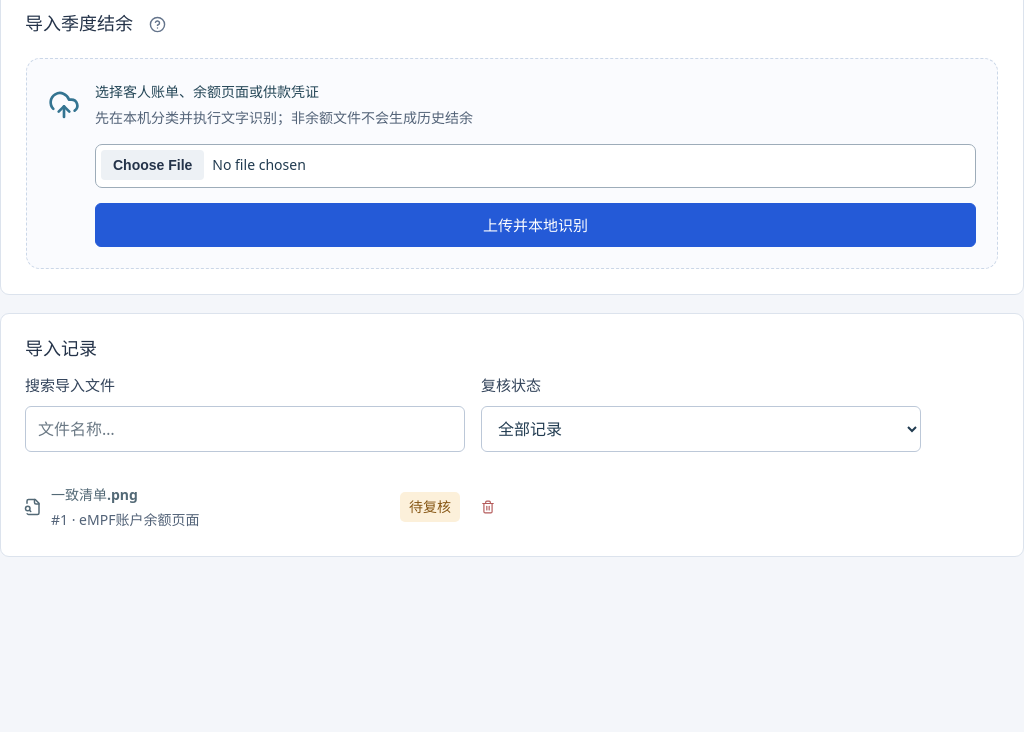
Test: 识别完全一致时无对比清单，人工复核字段保留且不会自动采用或提交
This screenshot has width=1024, height=732.
Click the button "一致清单.png #1 · eMPF账户余额页面 待复核": (94,495) [14,473,465,541]
(page scrolled)
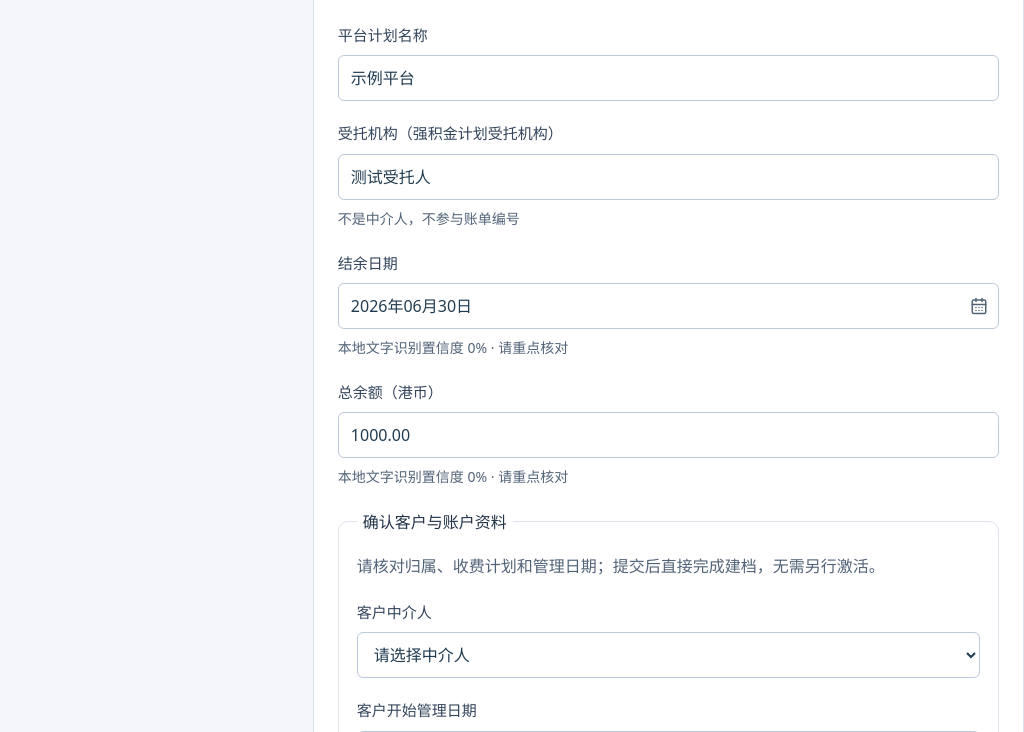
Expected: the number field labelled "总余额（港币） 本地文字识别置信度 0% · 请重点核对" holds "1000.00", [338,412,999,458]
